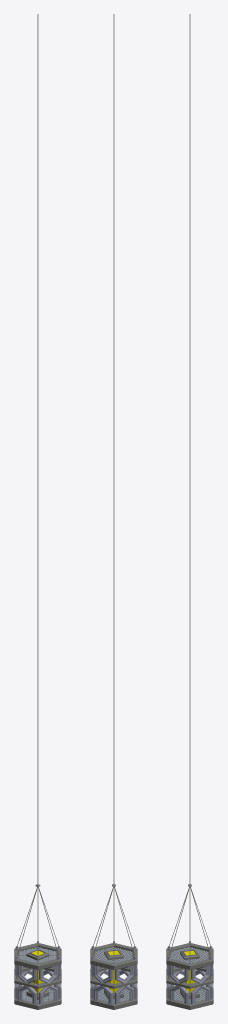
The model's file is Chandelier.fbx.
3 renders of one model, left to right at view 1: azimuth 90°, elevation 25°; view 2: azimuth 150°, elevation 25°; view 3: azimuth 330°, elevation 25°, orthographic.
Visible parts, largest first — view 1: pCube883, pCylinder1, pCylinder3, pCylinder2, pCube879, pCube865, pCube864, pCube858, pCube859; view 2: pCube883, pCylinder1, pCylinder3, pCylinder2, pCube878, pCube868, pCube865, pCube857, pCube858; view 3: pCube883, pCylinder1, pCylinder3, pCylinder2, pCube881, pCube869, pCube866, pCube860, pCube861.
Part boxes in pixels (left/top/right/bottom): pCube883: left=37, top=14, right=38, bottom=884; pCylinder1: left=14, top=943, right=61, bottom=969; pCylinder3: left=14, top=967, right=61, bottom=988; pCylinder2: left=14, top=989, right=61, bottom=1009; pCube879: left=37, top=887, right=38, bottom=1003; pCube865: left=17, top=985, right=36, bottom=1004; pCube864: left=39, top=985, right=58, bottom=1004; pCube858: left=17, top=965, right=36, bottom=983; pCube859: left=39, top=965, right=58, bottom=983; pCube883: left=113, top=14, right=114, bottom=884; pCylinder1: left=90, top=943, right=137, bottom=969; pCylinder3: left=90, top=967, right=137, bottom=988; pCylinder2: left=90, top=989, right=137, bottom=1009; pCube878: left=113, top=887, right=114, bottom=1003; pCube868: left=93, top=985, right=112, bottom=1004; pCube865: left=115, top=985, right=134, bottom=1004; pCube857: left=93, top=965, right=112, bottom=983; pCube858: left=115, top=965, right=134, bottom=983; pCube883: left=189, top=14, right=190, bottom=884; pCylinder1: left=166, top=943, right=213, bottom=969; pCylinder3: left=166, top=967, right=213, bottom=988; pCylinder2: left=166, top=989, right=213, bottom=1009; pCube881: left=189, top=887, right=190, bottom=1003; pCube869: left=191, top=985, right=210, bottom=1004; pCube866: left=169, top=985, right=188, bottom=1004; pCube860: left=169, top=965, right=188, bottom=983; pCube861: left=191, top=965, right=210, bottom=983.
Size of the model in its own units: 1.99 by 39.61 by 1.73.
